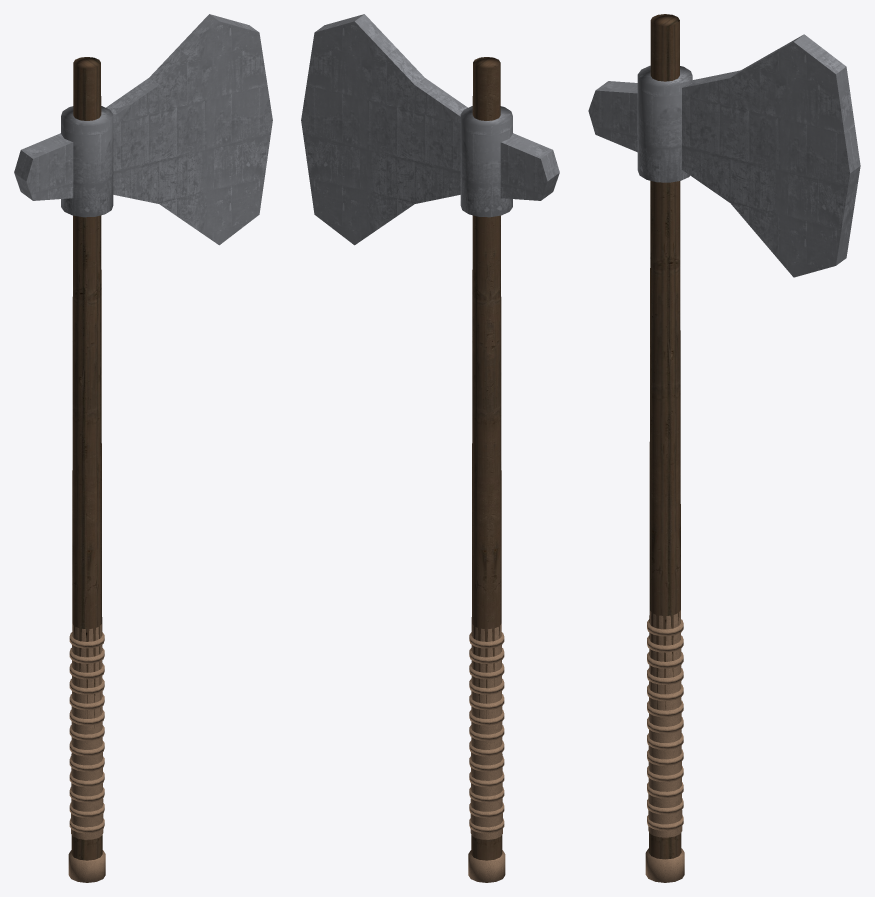
Rendered from axe_2handed.glb.
3 renders of one model, left to right at view 1: azimuth 30°, elevation 25°; view 2: azimuth 150°, elevation 25°; view 3: azimuth 330°, elevation 25°, orthographic. The views are drawn at different scales.
Visible parts, largest first — view 1: axe_2handed; view 2: axe_2handed; view 3: axe_2handed.
Part boxes in pixels (x1,y1,x2,y2): axe_2handed: (14,14,272,882); axe_2handed: (301,14,559,882); axe_2handed: (588,14,860,882).
Bounding box in the file's own units: 0.37 × 1.18 × 0.0663.
3 materials, 3 textured.
